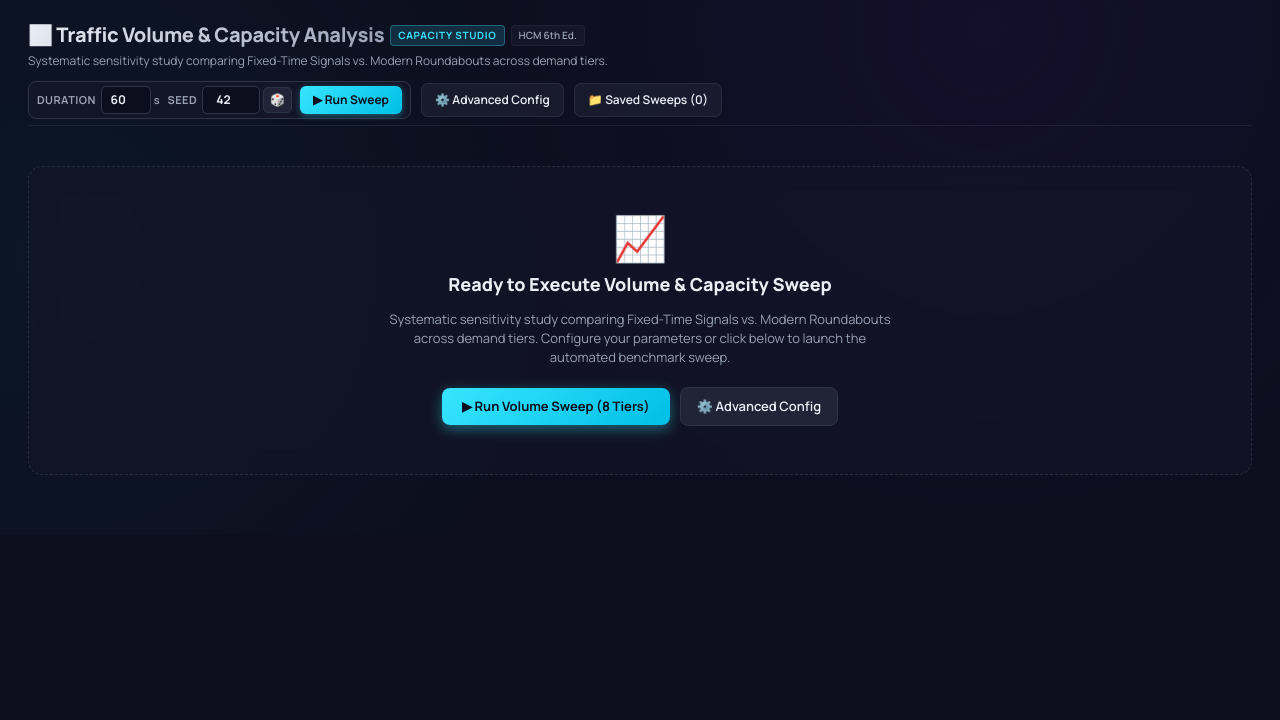
VolumeAnalysisDashboard › displays crossover badge when a sweep session is active
Step 1. Click the button "📁 Saved Sweeps (0)" → (648,100), box 574,83 -> 722,117
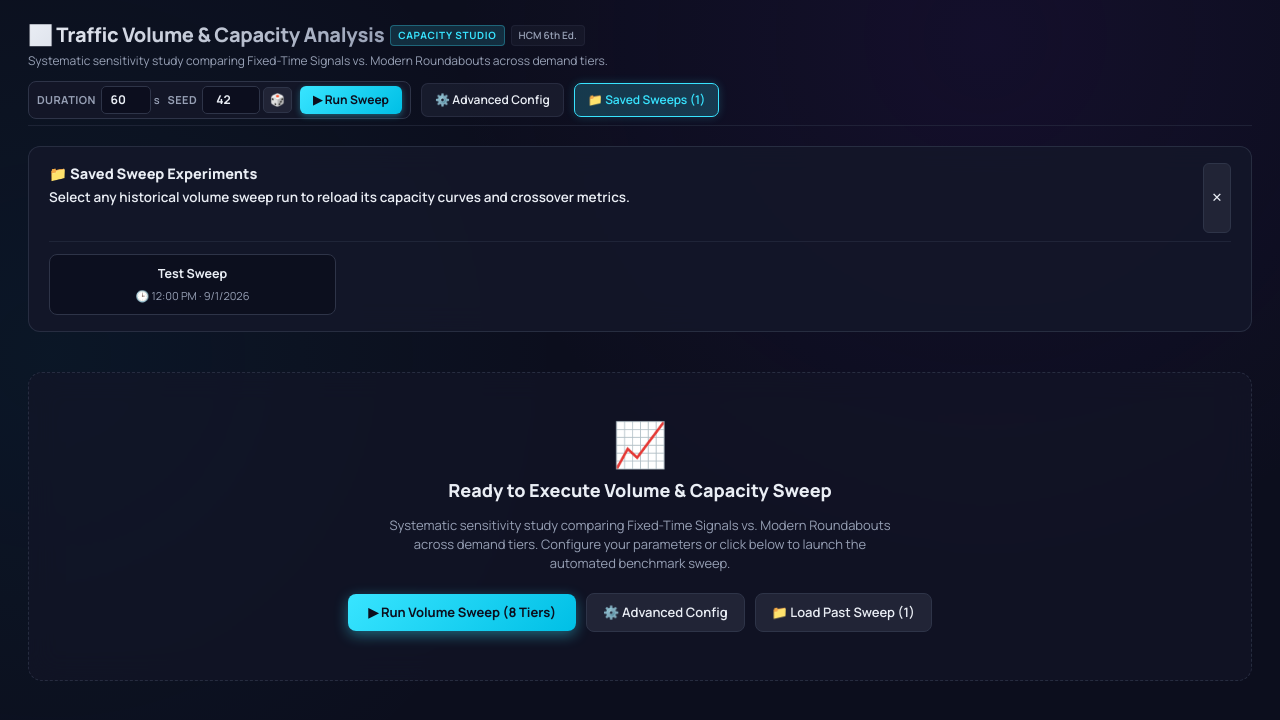
Step 2. Click the text "Test Sweep" → (192,275), box 158,265 -> 227,284
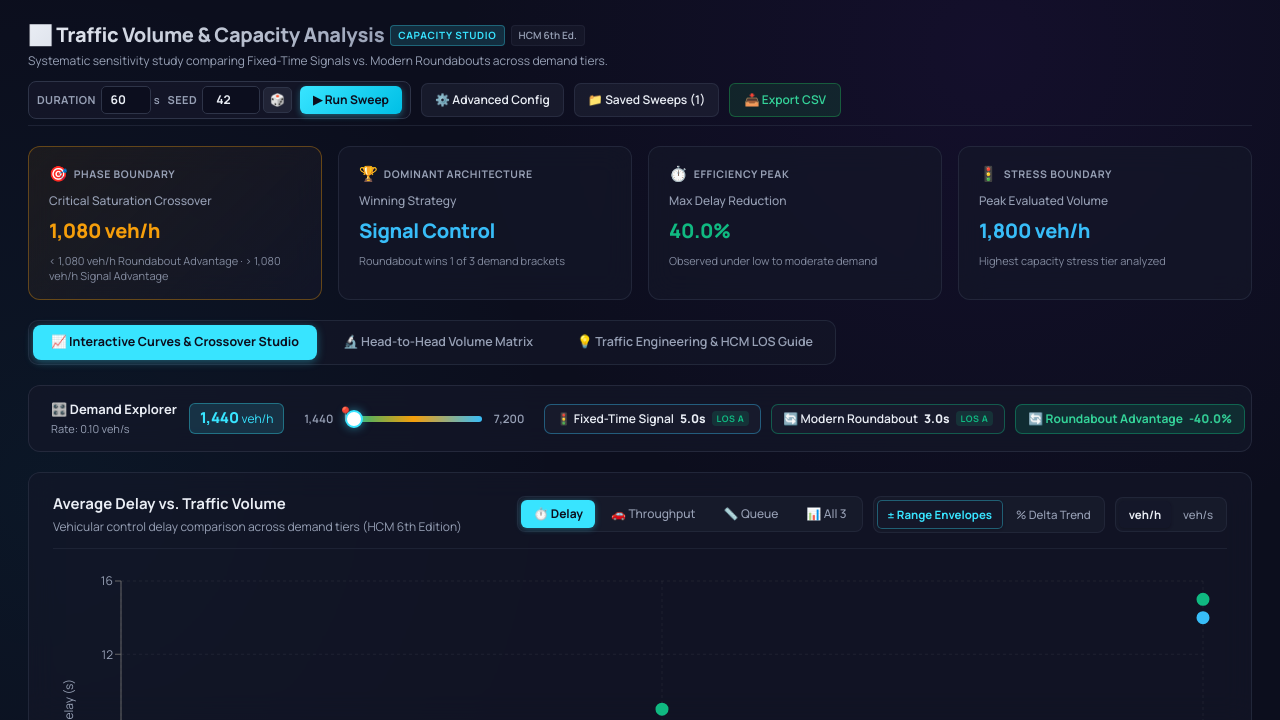
Expected: the text "Critical Saturation Crossover" is shown, 49,192 -> 212,209
